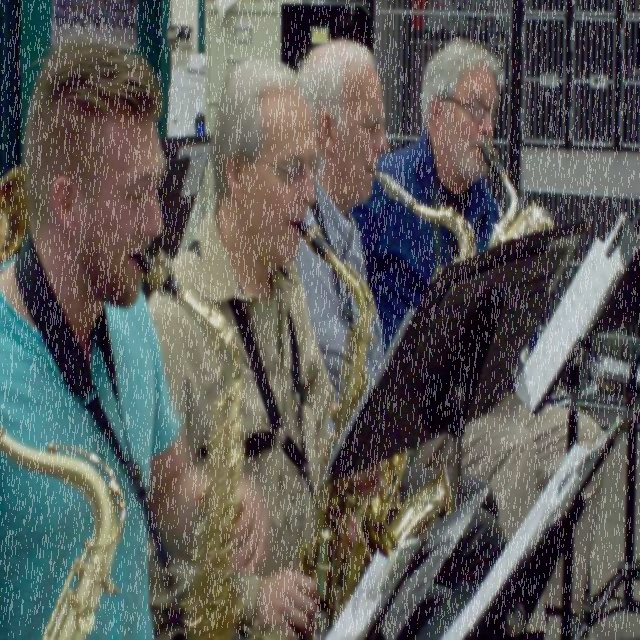pessoa: (146, 56, 454, 639), (351, 34, 607, 639), (287, 36, 511, 638)
